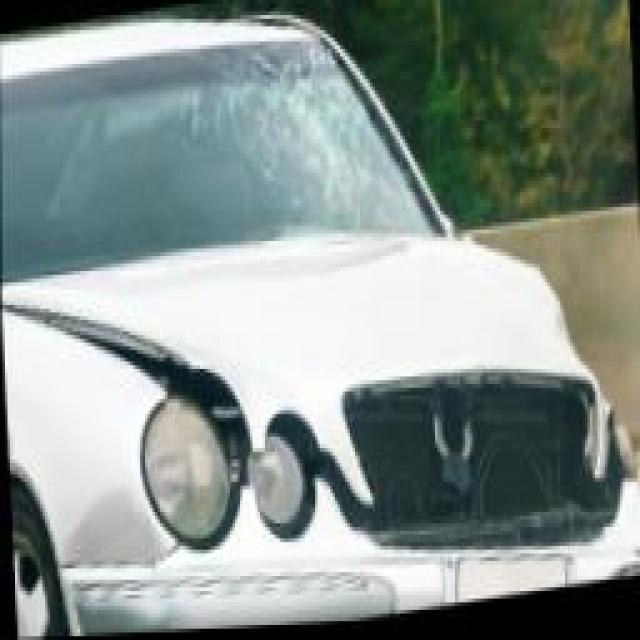Bonnet: (395, 218, 616, 492)
Windshield: (122, 4, 441, 270)
